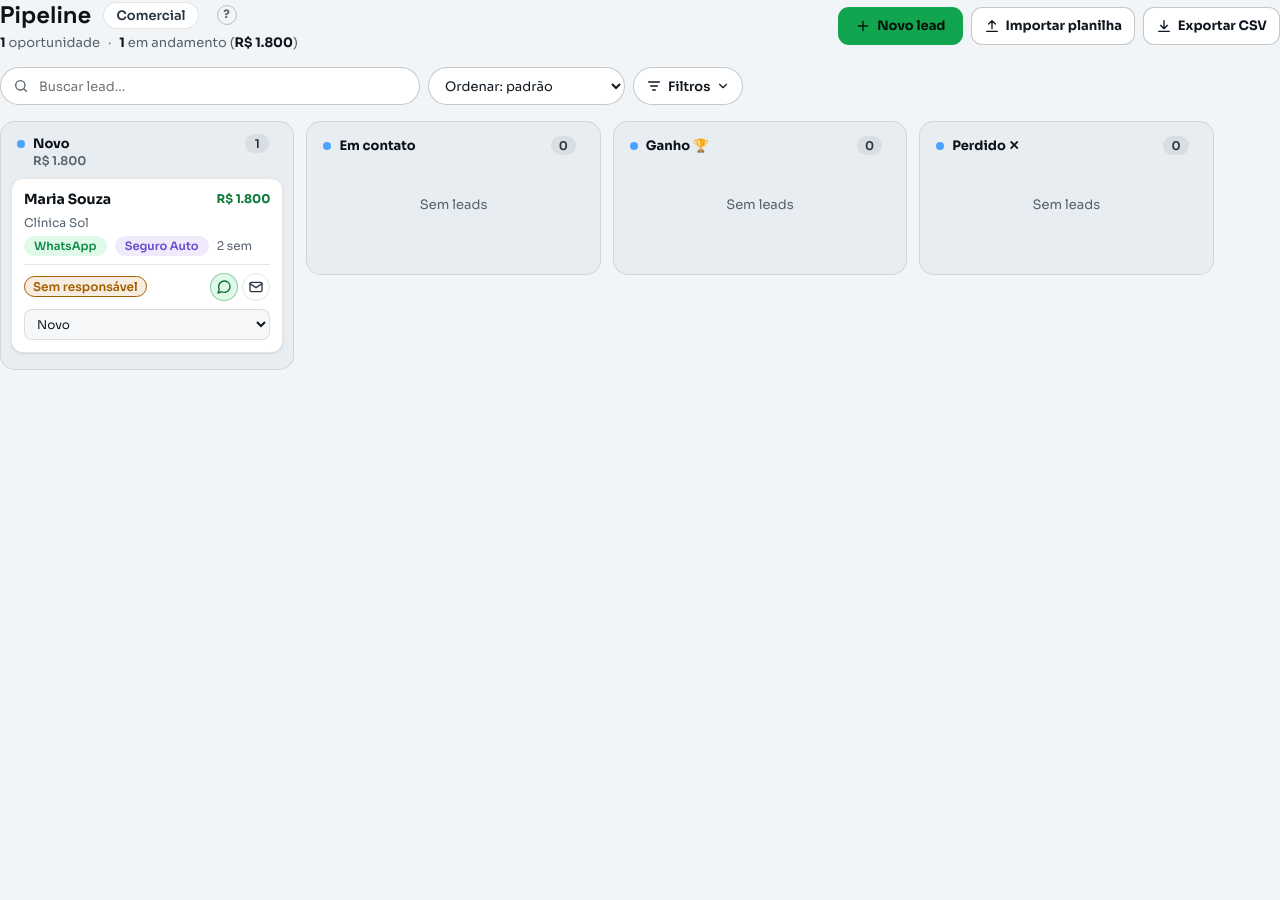
Test: pipeline: fila do nicho › outra pessoa assumiu antes (409): avisa, recarrega e não move
Expected: the text "Maria Souza" is shown, top-left (24, 191), bottom-right (111, 208)
Select "Em contato" in the dropdown named "Mover Maria Souza para outra etapa" at (147, 324), box top-left (24, 308), bottom-right (270, 340)
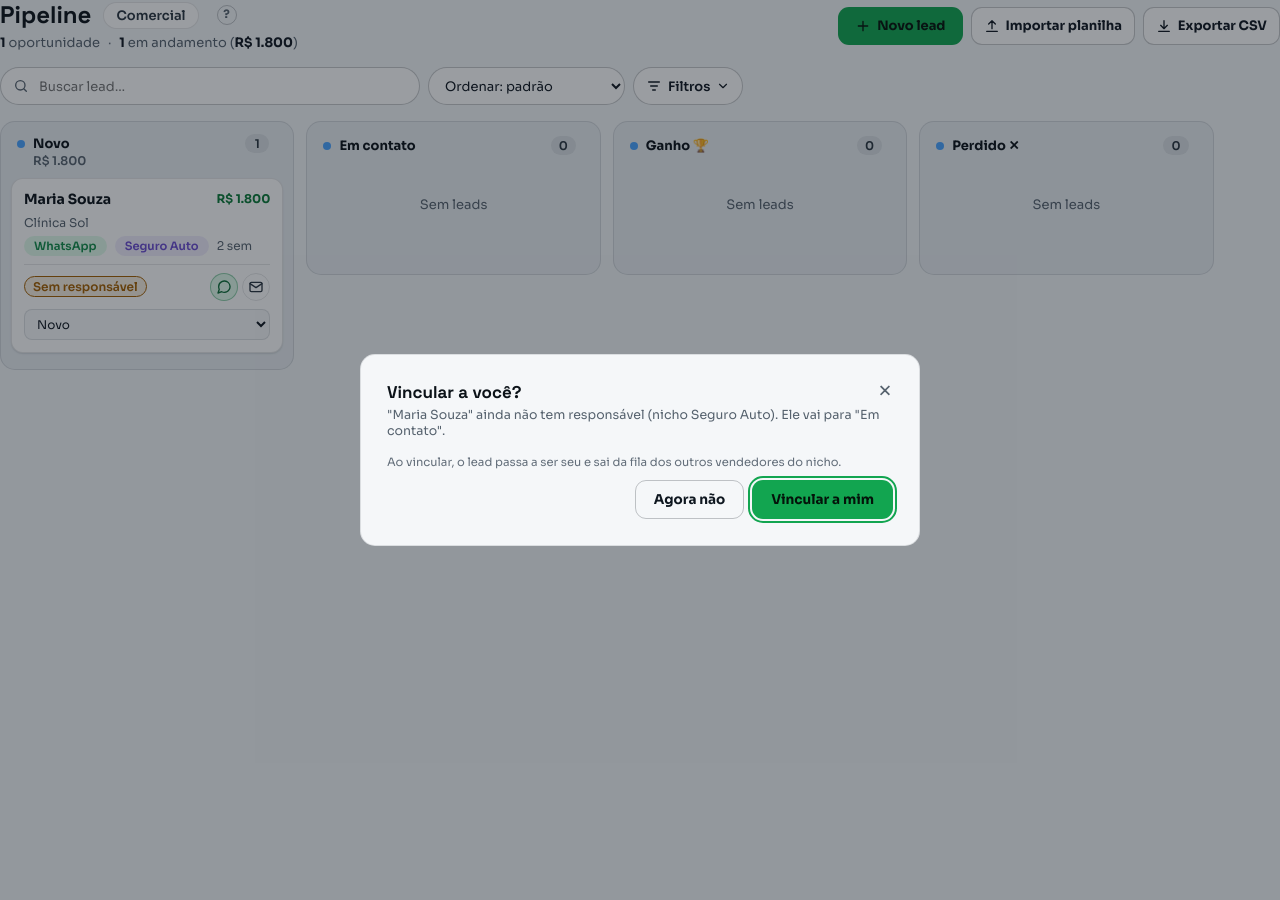
Click the button "Vincular a mim".
click(823, 500)  # box top-left (752, 480), bottom-right (893, 519)
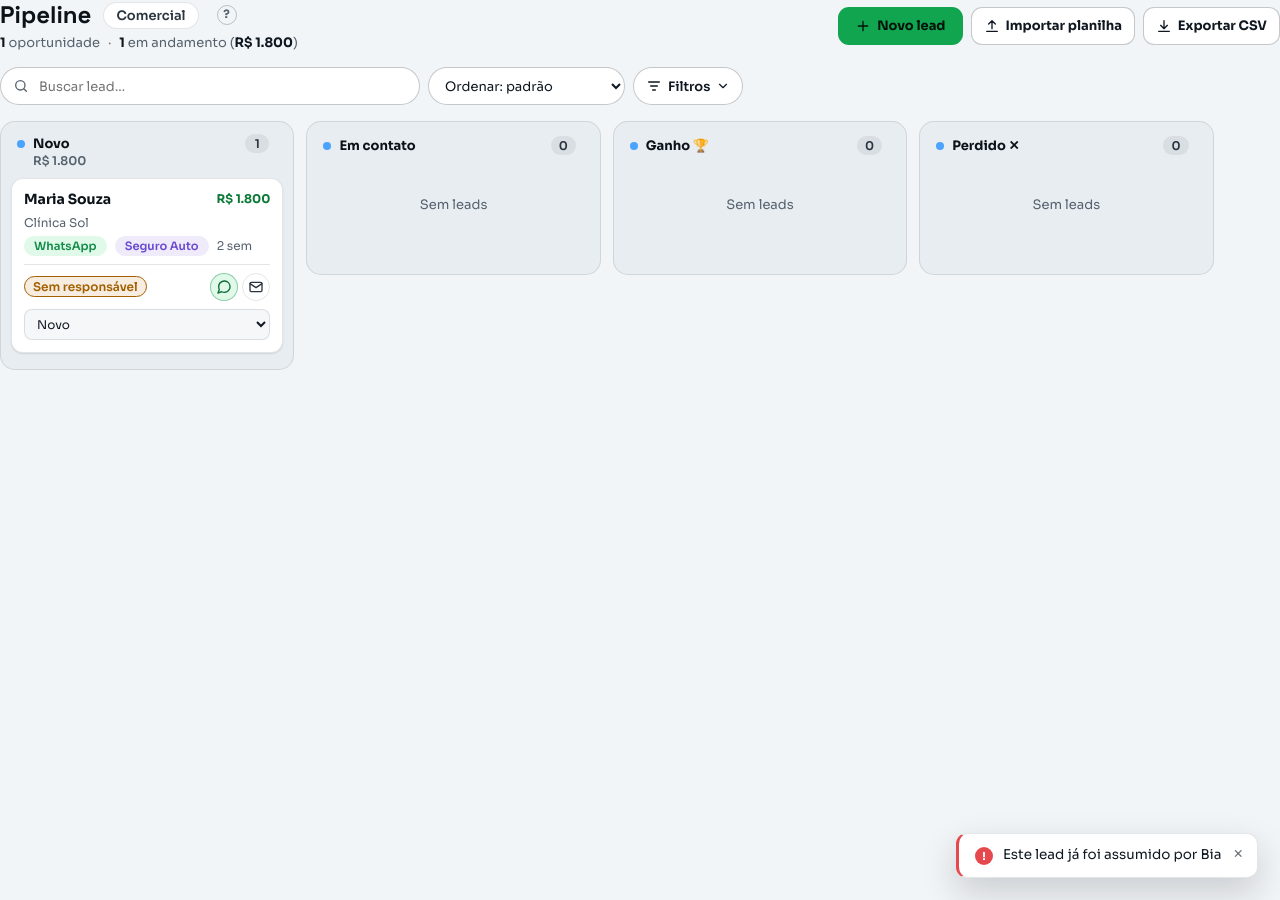
Expected: the text "Este lead já foi assumido por Bia" is shown, top-left (1003, 846), bottom-right (1222, 865)
